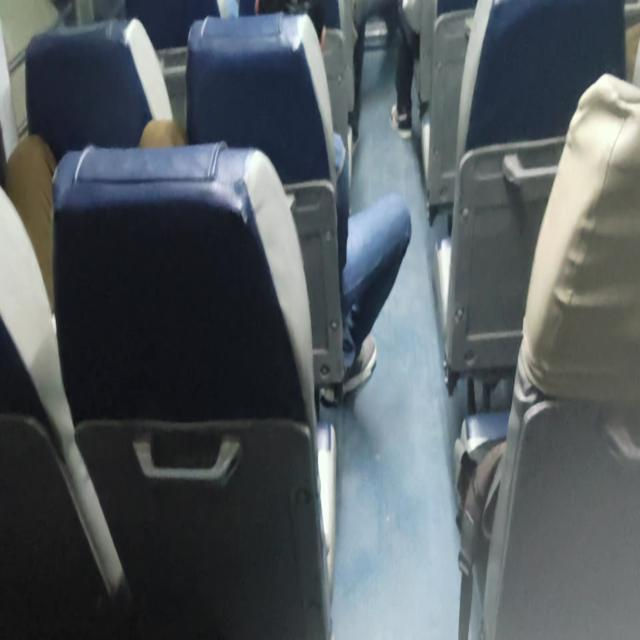person: (457, 72, 639, 637), (185, 9, 412, 403), (4, 17, 180, 314), (338, 189, 412, 397), (348, 0, 416, 145)
